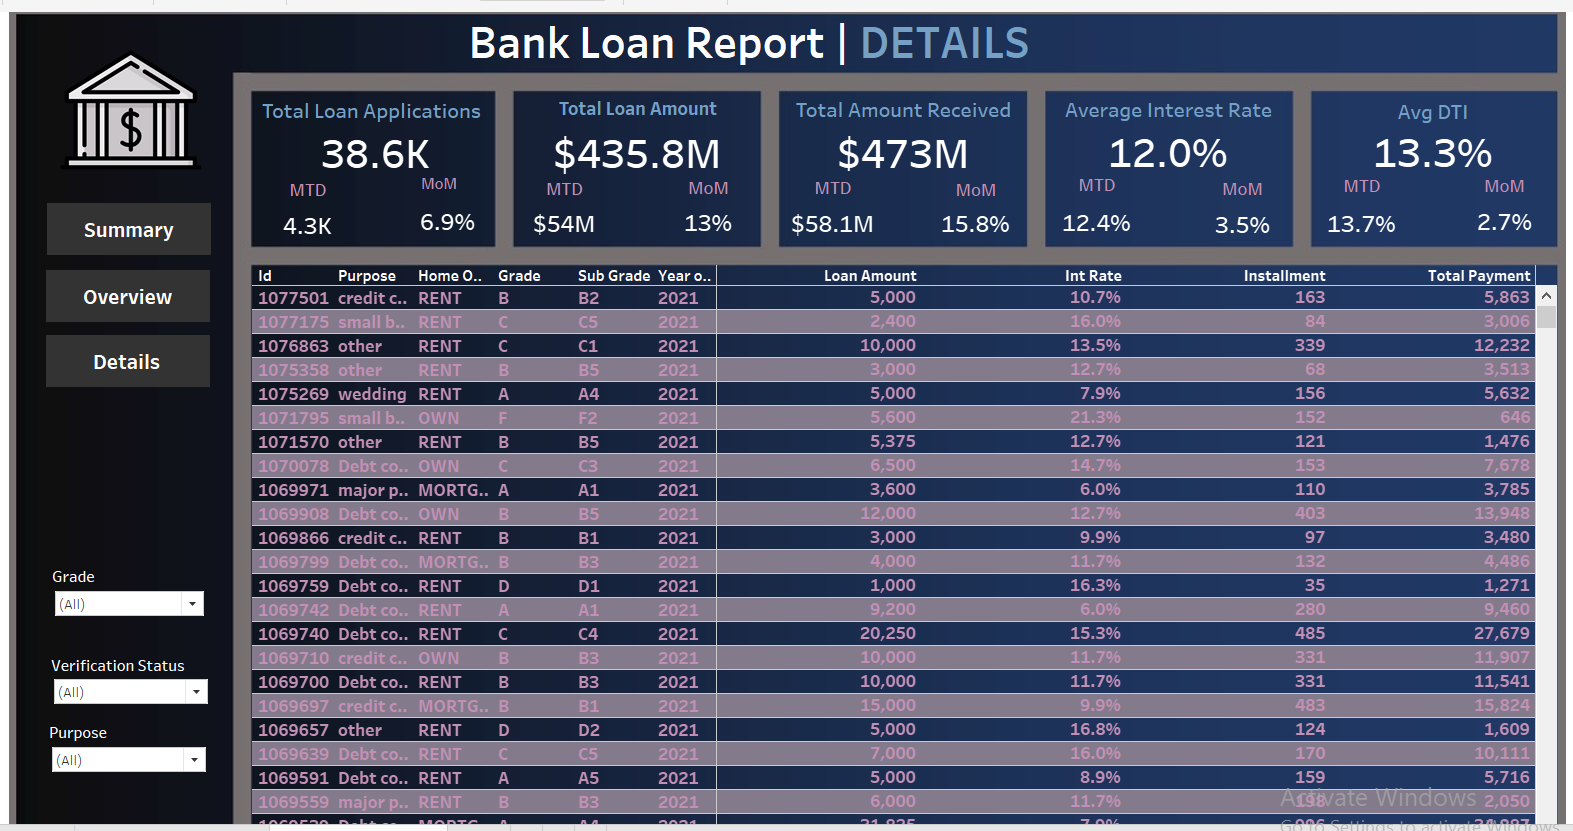

The dashboard page shown, as its layout file describes it:
{"tool":"tableau","page":{"name":"Dashboard DETAILS","canvas":[1600,900],"ordinal":0},"visuals":[{"type":"image","param":"C:/Users/LENOVO/Downloads/Tableau Background 3.jpg","box":[8,8,1584,884]},{"type":"text","box":[477,21,635,49]},{"type":"image","param":"C:/Users/LENOVO/Desktop/10222164.png","box":[72,33,141,163]},{"type":"worksheet","title":"Total Funded Amount","mark":"Automatic","box":[527,96,246,83]},{"type":"worksheet","title":"Total Amount Received","mark":"Automatic","box":[793,96,245,80]},{"type":"worksheet","title":"Average Interest Rate","mark":"Automatic","box":[1055,96,251,78]},{"type":"worksheet","title":"Total Loan Applications","mark":"Automatic","box":[270,97,236,77]},{"type":"worksheet","title":"Avg DTI","mark":"Automatic","box":[1322,98,246,75]},{"type":"worksheet","title":"MTD Average Interest","mark":"Automatic","box":[1051,173,116,70]},{"type":"worksheet","title":"MoM Loan Applications","mark":"Automatic","box":[411,174,105,74]},{"type":"worksheet","title":"MTD Avg DTI","mark":"Automatic","box":[1322,174,104,70]},{"type":"worksheet","title":"MoM Avg DTI","mark":"Automatic","box":[1456,174,121,65]},{"type":"worksheet","title":"MoM Funded Amount","mark":"Automatic","box":[656,176,129,63]},{"type":"worksheet","title":"MTD Total Amount Received","mark":"Automatic","box":[794,176,102,65]},{"type":"worksheet","title":"MTD Total Funded Amount","mark":"Automatic","box":[524,177,105,63]},{"type":"worksheet","title":"MoM Average Interest","mark":"Automatic","box":[1193,177,123,66]},{"type":"worksheet","title":"MTD Loan Applications","mark":"Automatic","box":[266,178,108,65]},{"type":"worksheet","title":"MoM Total Amount Received","mark":"Automatic","box":[931,178,114,62]},{"type":"dashboard-object","box":[59,208,164,52]},{"type":"worksheet","title":"details","mark":"Text","rows":["id","purpose","home_ownership","grade","sub_grade","issue_date"],"box":[264,270,1305,609]},{"type":"dashboard-object","box":[58,275,164,52]},{"type":"dashboard-object","box":[58,340,164,52]},{"type":"filter","title":"Average Interest Rate","param":"[federated.04lrqcg0eo35961g28ode0irnr3b].[none:grade:nk]","box":[64,571,155,55]},{"type":"filter","title":"Average Interest Rate","param":"[federated.04lrqcg0eo35961g28ode0irnr3b].[none:verification_status:nk]","box":[63,660,160,51]},{"type":"filter","title":"Average Interest Rate","param":"[federated.04lrqcg0eo35961g28ode0irnr3b].[none:purpose:nk]","box":[61,727,160,60]}]}

Visuals, with their boxes on the page's 1600x900 design canvas (x1, y1, x2, y2). These are canvas units, not pixel positions in the 1573x831 screenshot, which may show the page scaled, cropped or inside an application window:
image: {"x1": 8, "y1": 8, "x2": 1592, "y2": 892}
text: {"x1": 477, "y1": 21, "x2": 1112, "y2": 70}
image: {"x1": 72, "y1": 33, "x2": 213, "y2": 196}
"Total Funded Amount" worksheet: {"x1": 527, "y1": 96, "x2": 773, "y2": 179}
"Total Amount Received" worksheet: {"x1": 793, "y1": 96, "x2": 1038, "y2": 176}
"Average Interest Rate" worksheet: {"x1": 1055, "y1": 96, "x2": 1306, "y2": 174}
"Total Loan Applications" worksheet: {"x1": 270, "y1": 97, "x2": 506, "y2": 174}
"Avg DTI" worksheet: {"x1": 1322, "y1": 98, "x2": 1568, "y2": 173}
"MTD Average Interest" worksheet: {"x1": 1051, "y1": 173, "x2": 1167, "y2": 243}
"MoM Loan Applications" worksheet: {"x1": 411, "y1": 174, "x2": 516, "y2": 248}
"MTD Avg DTI" worksheet: {"x1": 1322, "y1": 174, "x2": 1426, "y2": 244}
"MoM Avg DTI" worksheet: {"x1": 1456, "y1": 174, "x2": 1577, "y2": 239}
"MoM Funded Amount" worksheet: {"x1": 656, "y1": 176, "x2": 785, "y2": 239}
"MTD Total Amount Received" worksheet: {"x1": 794, "y1": 176, "x2": 896, "y2": 241}
"MTD Total Funded Amount" worksheet: {"x1": 524, "y1": 177, "x2": 629, "y2": 240}
"MoM Average Interest" worksheet: {"x1": 1193, "y1": 177, "x2": 1316, "y2": 243}
"MTD Loan Applications" worksheet: {"x1": 266, "y1": 178, "x2": 374, "y2": 243}
"MoM Total Amount Received" worksheet: {"x1": 931, "y1": 178, "x2": 1045, "y2": 240}
dashboard-object: {"x1": 59, "y1": 208, "x2": 223, "y2": 260}
"details" worksheet (Text marks): {"x1": 264, "y1": 270, "x2": 1569, "y2": 879}
dashboard-object: {"x1": 58, "y1": 275, "x2": 222, "y2": 327}
dashboard-object: {"x1": 58, "y1": 340, "x2": 222, "y2": 392}
"Average Interest Rate" filter: {"x1": 64, "y1": 571, "x2": 219, "y2": 626}
"Average Interest Rate" filter: {"x1": 63, "y1": 660, "x2": 223, "y2": 711}
"Average Interest Rate" filter: {"x1": 61, "y1": 727, "x2": 221, "y2": 787}
